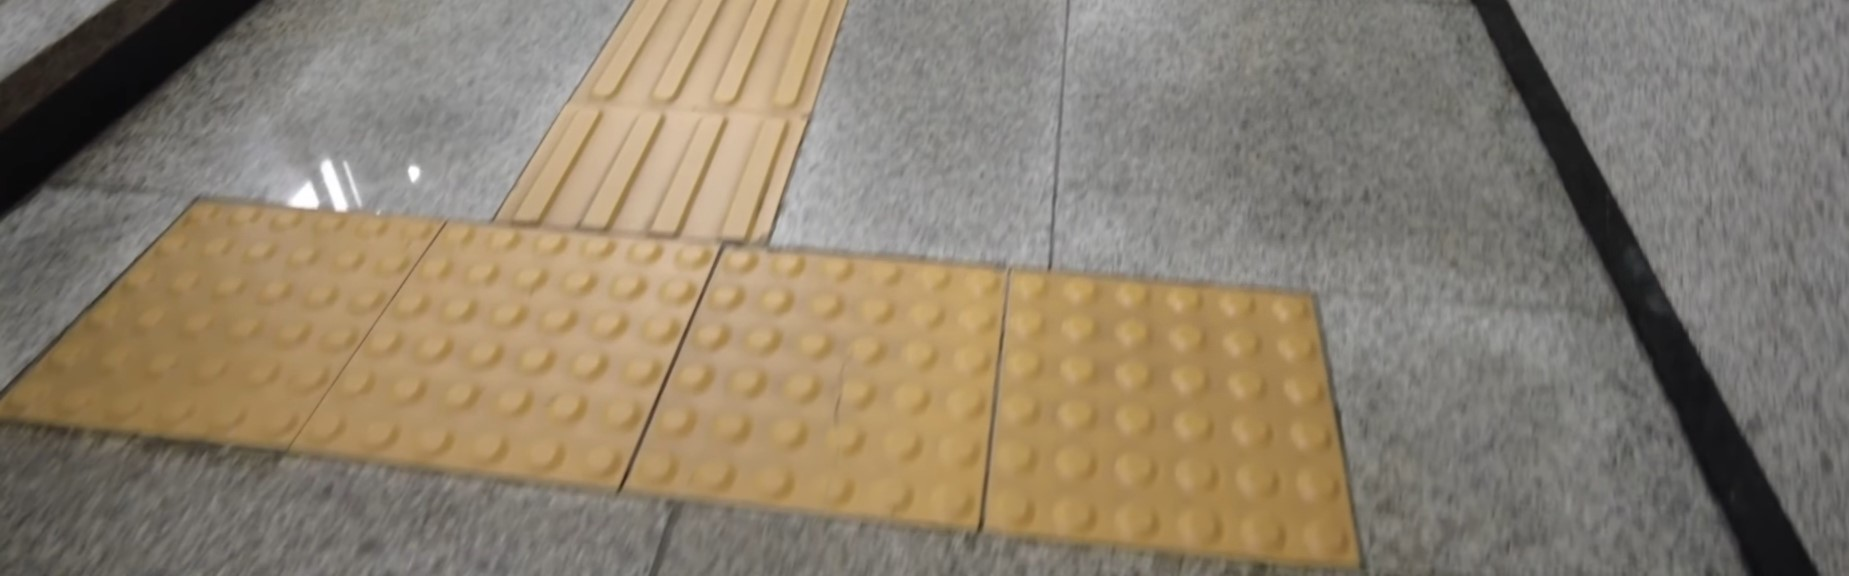guideBlock: (516, 119, 779, 238), (616, 9, 850, 135)
warningBlock: (1016, 279, 1345, 567), (127, 203, 455, 444), (713, 261, 1008, 526), (382, 241, 705, 466)
